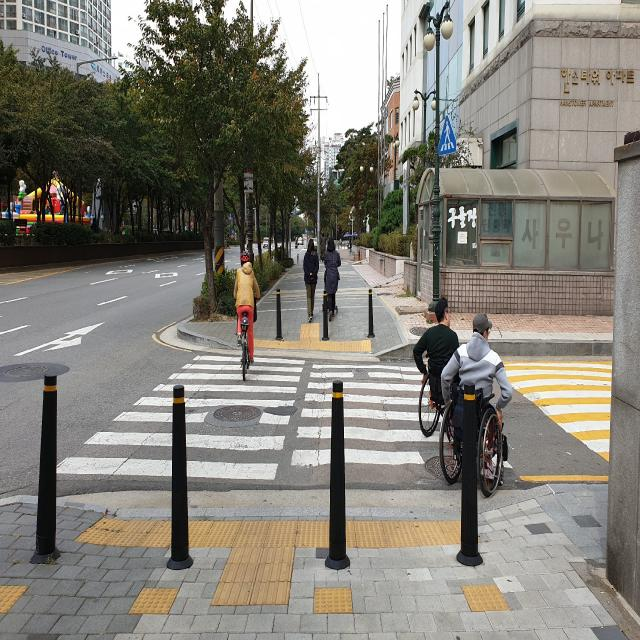횡단보도: (55, 351, 515, 483)
